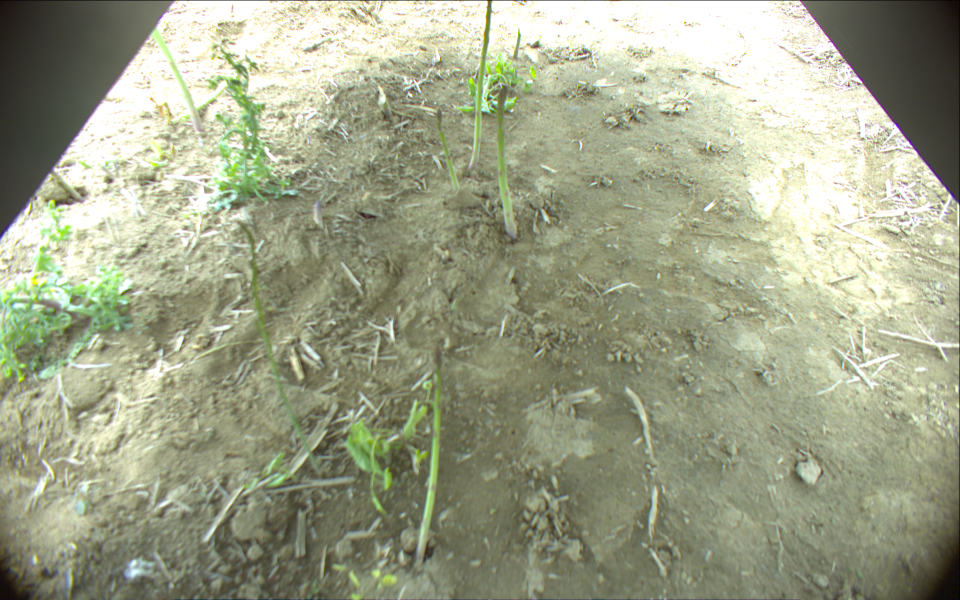aspa: (237, 221, 322, 479), (412, 347, 441, 571), (152, 27, 204, 134), (468, 1, 493, 168), (496, 84, 519, 241), (170, 82, 227, 122), (436, 109, 458, 195), (512, 27, 522, 61)
